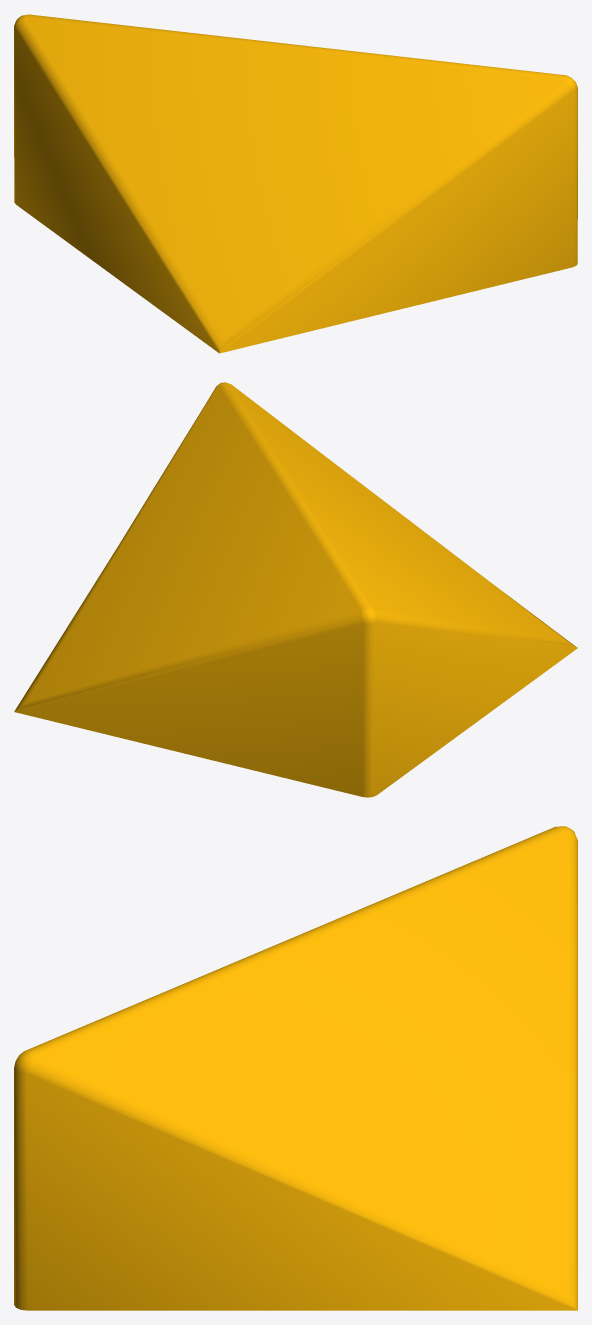
Rendered from Diagonal_Ramp_Half.fbx.
The picture shows the model from 3 angles, top to bottom: view 1: azimuth 30°, elevation 25°; view 2: azimuth 150°, elevation 25°; view 3: azimuth 270°, elevation 25°; orthographic projection. The views are drawn at different scales.
Parts seen in each view (by area): view 1: Diagonal_Ramp_Half; view 2: Diagonal_Ramp_Half; view 3: Diagonal_Ramp_Half.
Boxes of the visible parts, box(x1,y1,x2,y2) form: Diagonal_Ramp_Half: box(14, 14, 577, 353); Diagonal_Ramp_Half: box(14, 382, 577, 797); Diagonal_Ramp_Half: box(14, 826, 577, 1310).
Bounding box in the file's own units: 1 × 0.4926 × 1.
